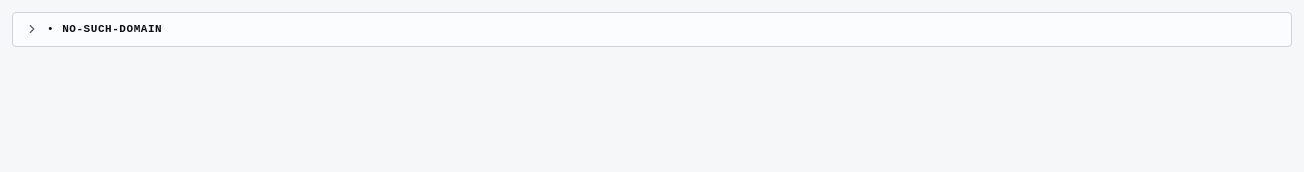
BackendCapabilityPanel › 未知域提示未接入 loader
Click the text "no-such-domain": (112, 29) left=62, top=21, right=162, bottom=38
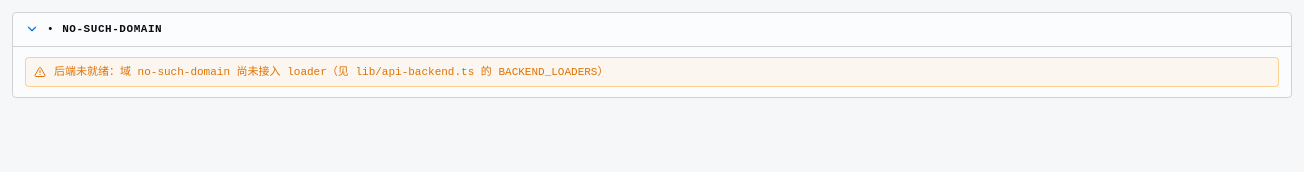
expect the text "尚未接入 loader" is shown: met, box left=120, top=66, right=608, bottom=78
